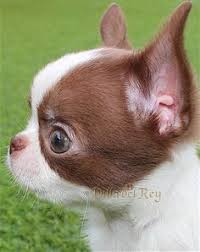chihuahua: (1, 1, 200, 214)
